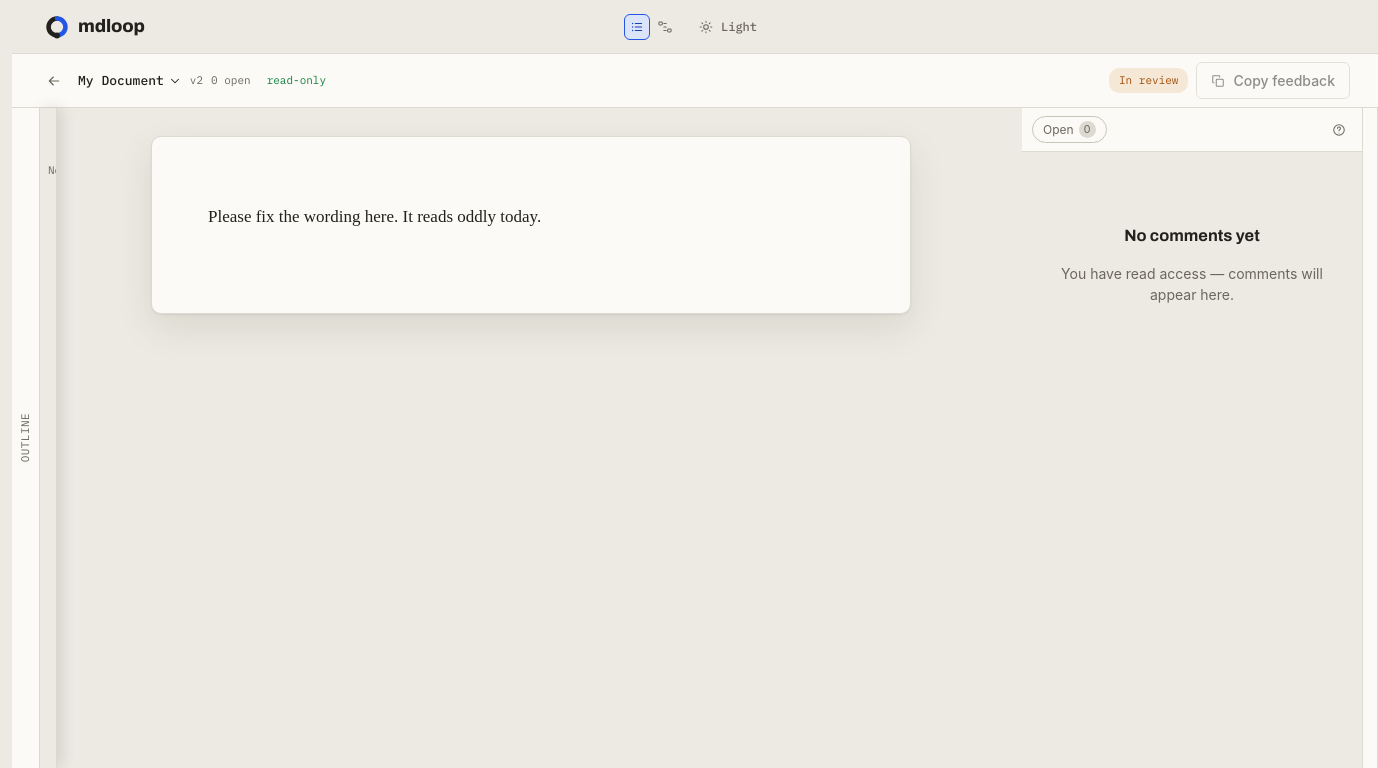
Test: Viewer — document switcher (Phase 33.E) › renders the sibling tree, not a flat title-only list, and marks the current document
Click the button "My Document".
click(130, 81)  # box [74,69,186,92]
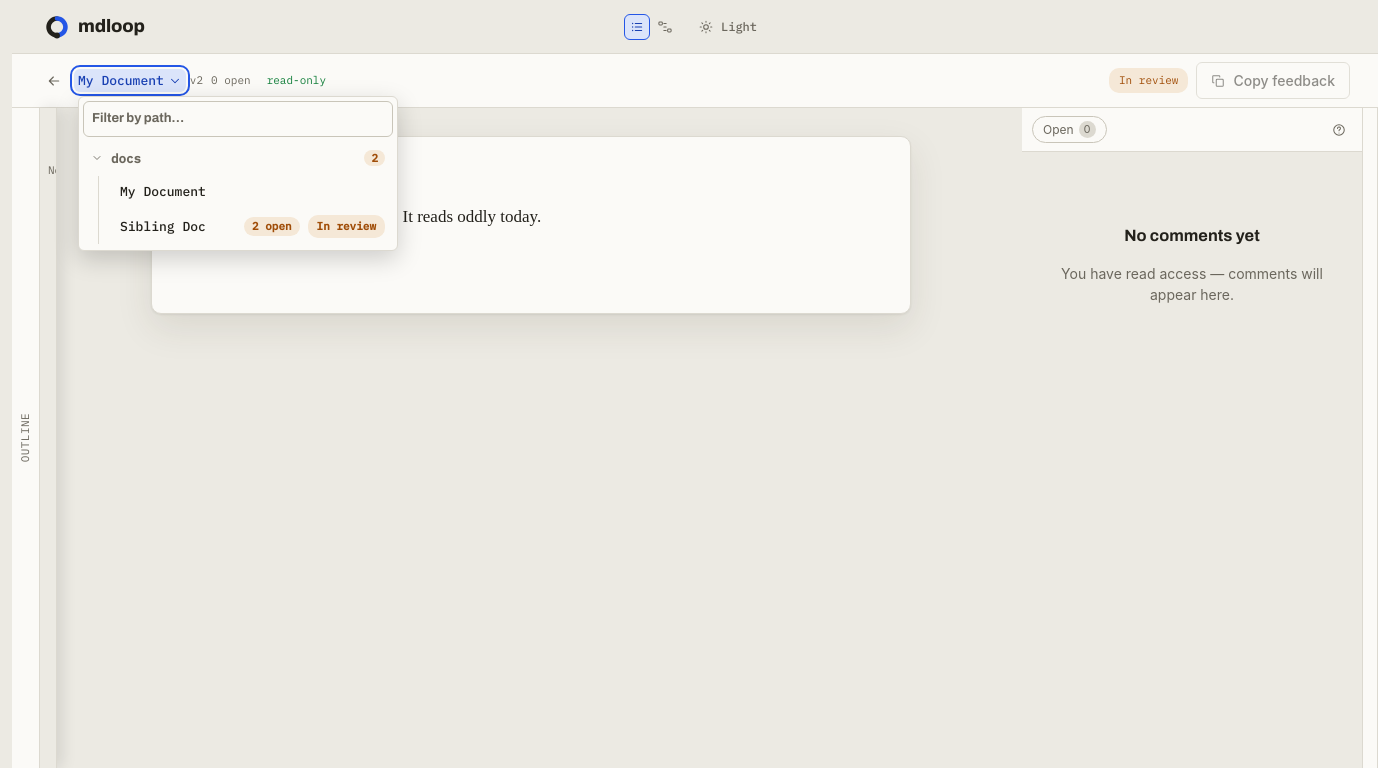
Now the text "Sibling Doc" is shown, box [120,218,206,234]
Now the text "2 open" is shown, box [244,217,300,236]
